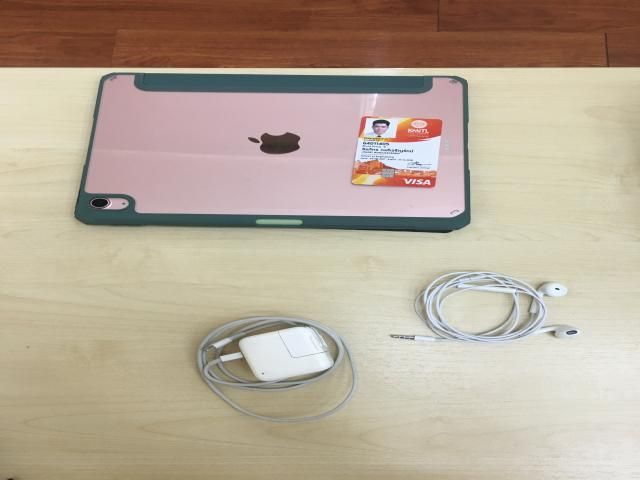wire: (197, 316, 356, 425), (419, 271, 567, 343)
